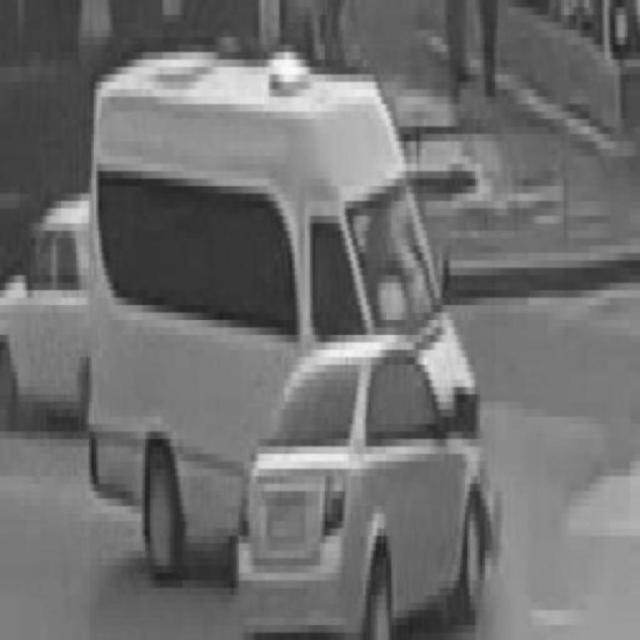accident: (91, 49, 495, 640)
